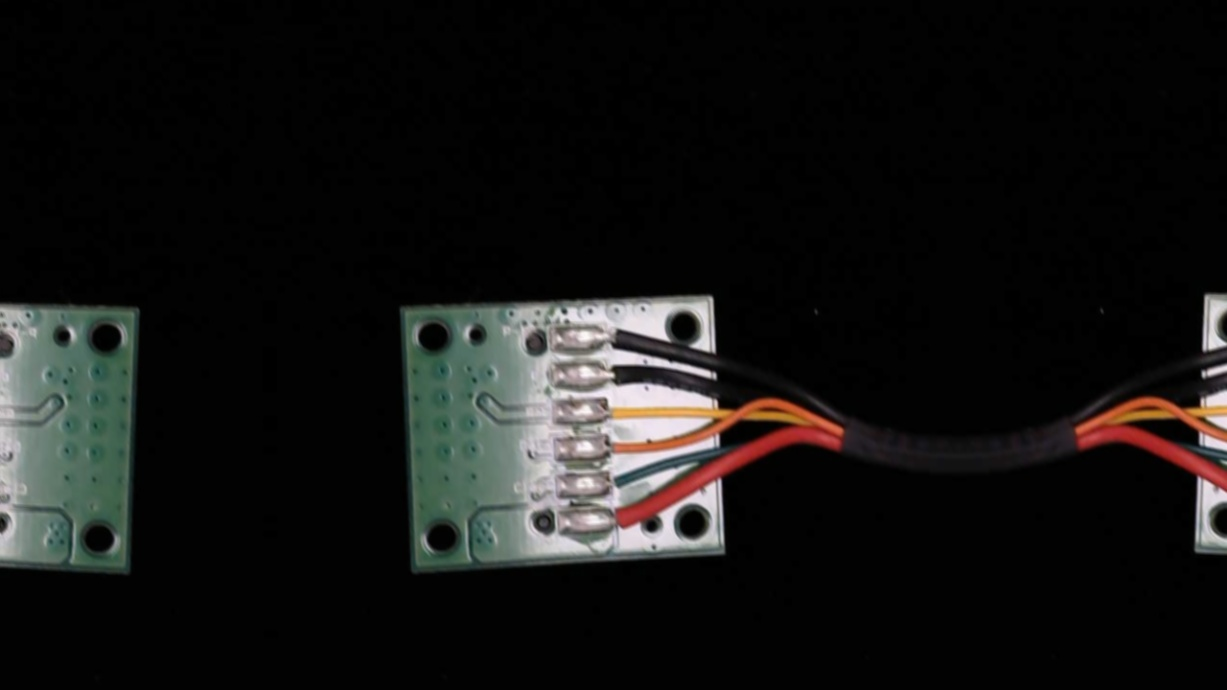Black: (587, 358, 657, 391)
Black1: (583, 319, 647, 351)
Green: (589, 469, 646, 498)
Orange: (592, 432, 658, 461)
Red: (593, 503, 660, 536)
Yellow: (589, 393, 660, 426)
